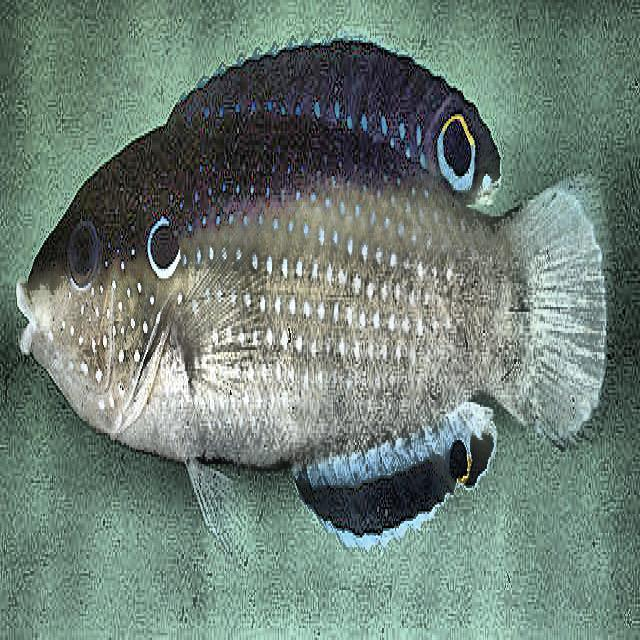fish: (13, 36, 608, 556)
